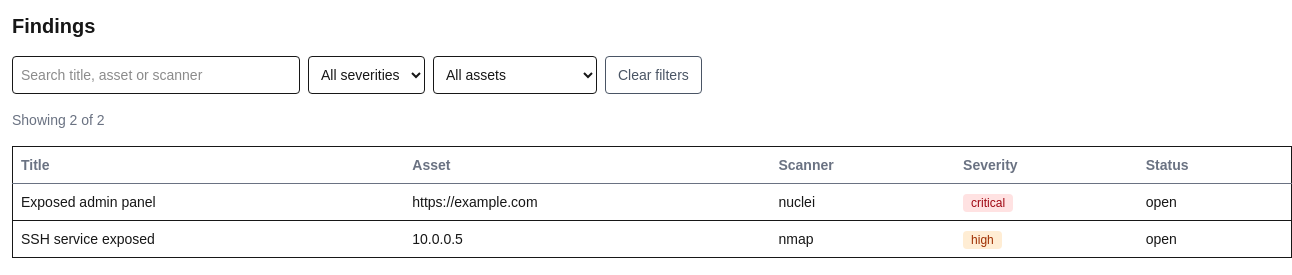
it: FindingsPage › filters by search text
Expected: the link "SSH service exposed" is shown, top-left (21, 231), bottom-right (155, 247)
Step 1. Type "ssh" into the field with placeholder "Search title, asset or scanner" → point(156, 75), box top-left (12, 56), bottom-right (300, 94)
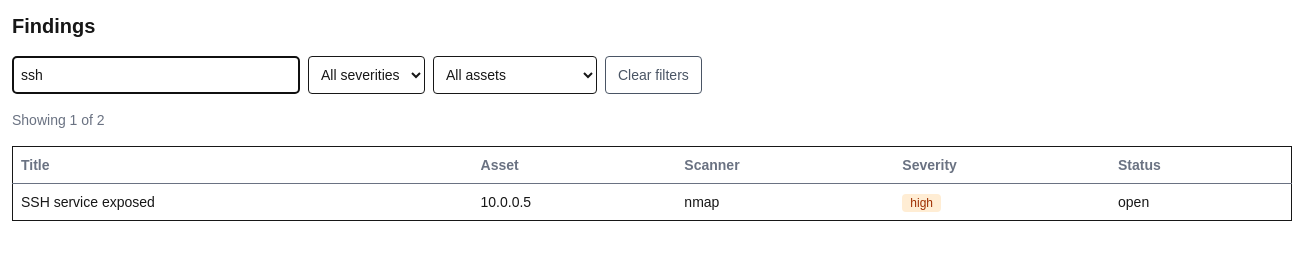
Expected: the link "SSH service exposed" is shown, top-left (21, 194), bottom-right (155, 210)
Now the link "Exposed admin panel" is gone
